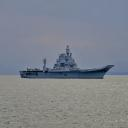Portanaves: (20, 46, 117, 81)
